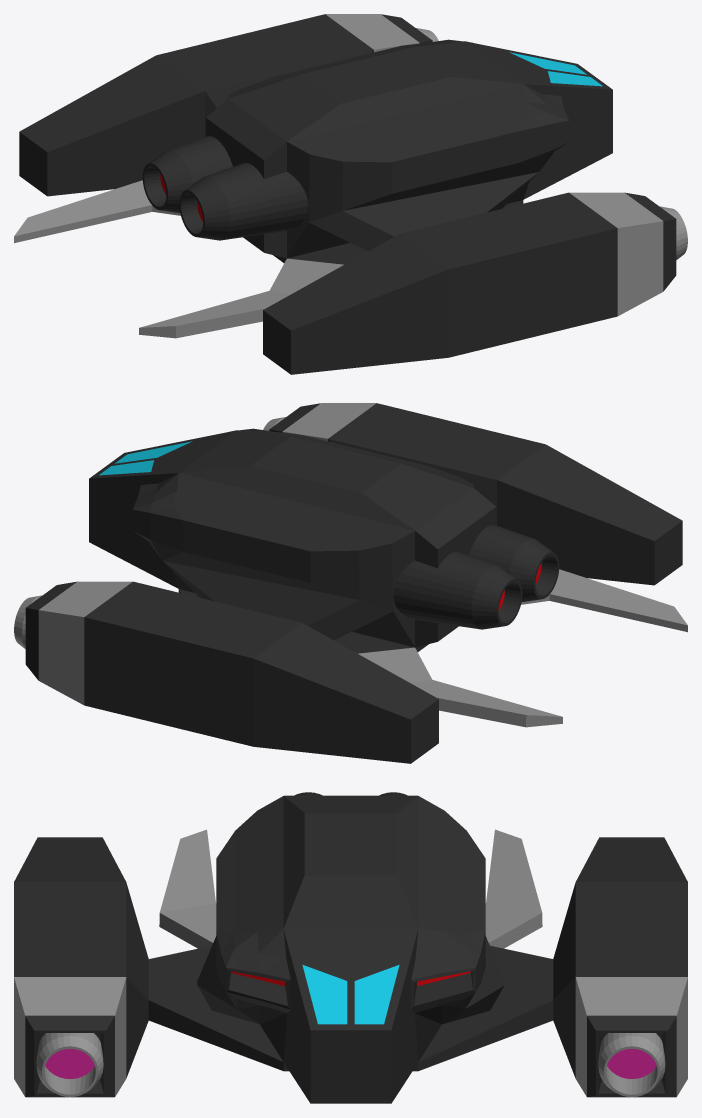
File: Grunkyron.fbx
3 views of the same model, one above another, from view 1: azimuth 30°, elevation 25°; view 2: azimuth 150°, elevation 25°; view 3: azimuth 270°, elevation 25° (orthographic). The views are drawn at different scales.
Parts seen in each view (by area): view 1: Cube; view 2: Cube; view 3: Cube.
Part boxes in pixels (left/top/right/bottom): Cube: left=14, top=14, right=687, bottom=374; Cube: left=14, top=403, right=687, bottom=763; Cube: left=14, top=792, right=687, bottom=1103.
Bounding box in the file's own units: 3073 × 889 × 3000.
